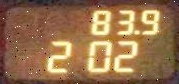-: (132, 29, 139, 34)
0: (86, 40, 111, 72)
2: (45, 40, 71, 72), (111, 40, 137, 72)
3: (115, 9, 134, 34)
8: (89, 9, 110, 34)
9: (139, 8, 158, 34)
